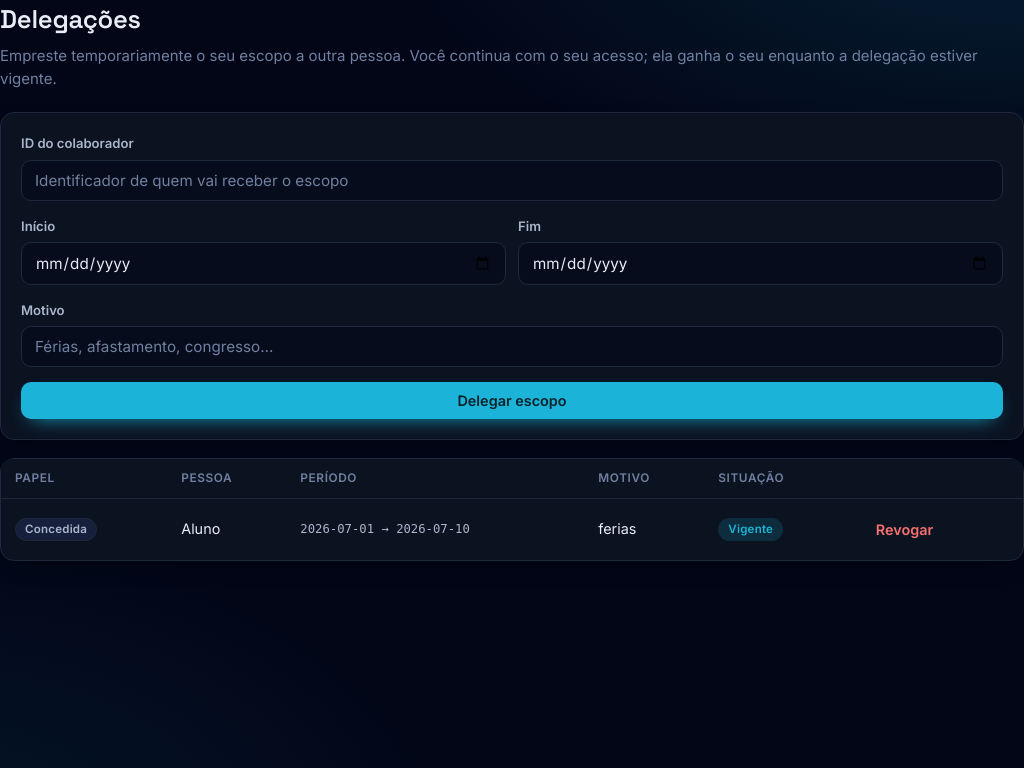
Scenario: PaginaDelegacoes › revoga via DELETE e recarrega a lista
Click the button "Revogar". click: (904,529)
box: [860,510,949,548]
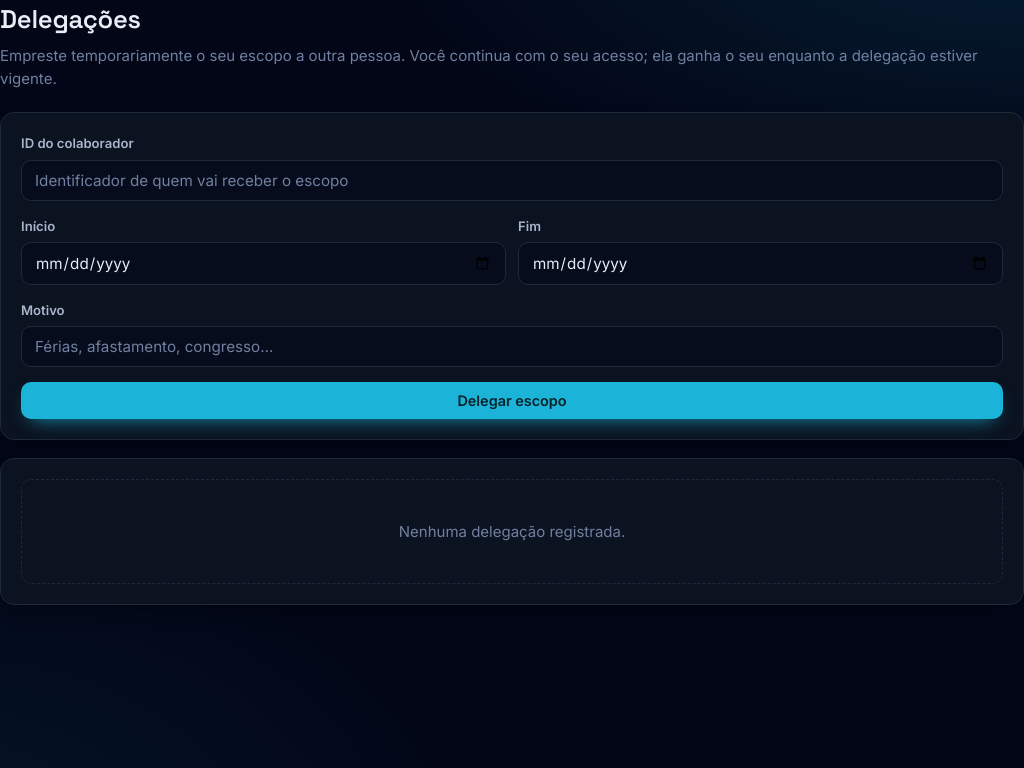
expect the text "Nenhuma delegação registrada." is shown: met, box [21,479,1003,584]
